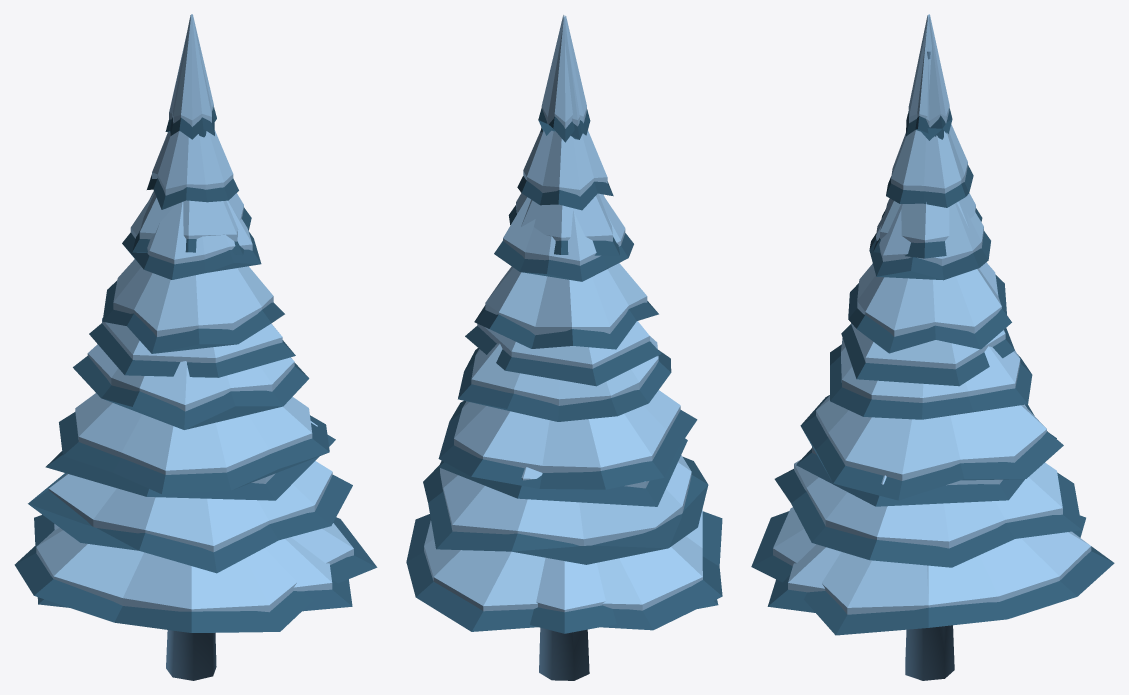
The model's file is tree_spruce.glb.
3 renders of one model, left to right at view 1: azimuth 30°, elevation 25°; view 2: azimuth 150°, elevation 25°; view 3: azimuth 270°, elevation 25°, orthographic.
Visible parts, largest first — view 1: Near, Far; view 2: Near, Far; view 3: Near, Far.
Part boxes in pixels (x1,y1,x2,y2): Near: [14, 15, 377, 632]; Far: [34, 14, 352, 680]; Near: [406, 15, 722, 631]; Far: [438, 15, 718, 680]; Near: [751, 15, 1114, 635]; Far: [767, 14, 1085, 680].
Size of the model in its own units: 3.13 by 6.4 by 3.21.
